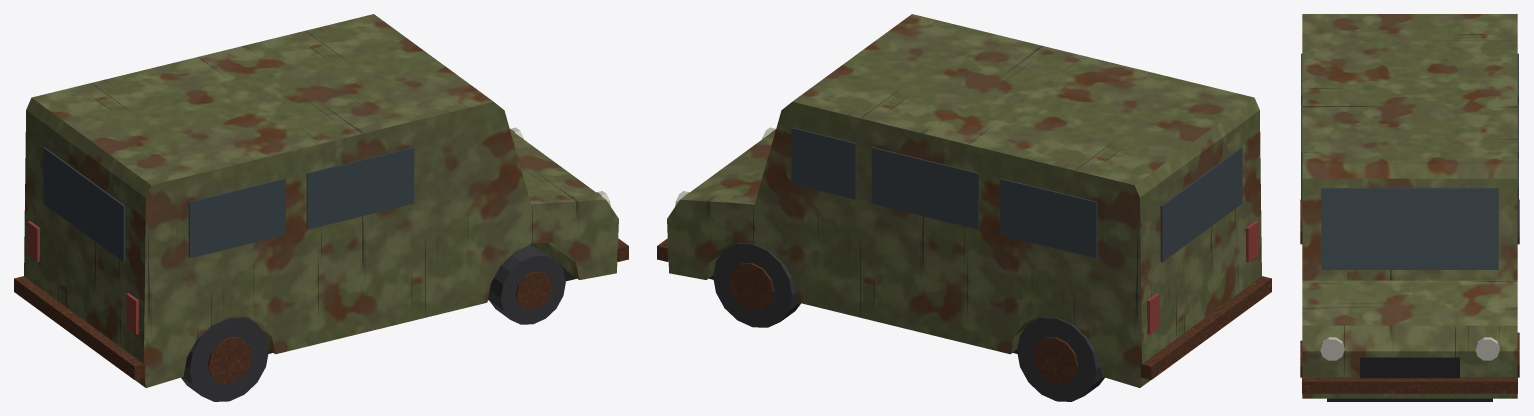
The model's file is car_van_olive.glb.
The picture shows the model from 3 angles, left to right: view 1: azimuth 30°, elevation 25°; view 2: azimuth 150°, elevation 25°; view 3: azimuth 270°, elevation 25°; orthographic projection. The views are drawn at different scales.
Visible parts, largest first — view 1: car_van_olive; view 2: car_van_olive; view 3: car_van_olive.
Boxes of the visible parts, <box> form: car_van_olive: <box>14,14,628,401</box>; car_van_olive: <box>657,14,1271,401</box>; car_van_olive: <box>1300,14,1519,401</box>.
Bounding box in the file's own units: 4.62 × 2.1 × 1.98.
Materials: 7 (2 with a texture image).
